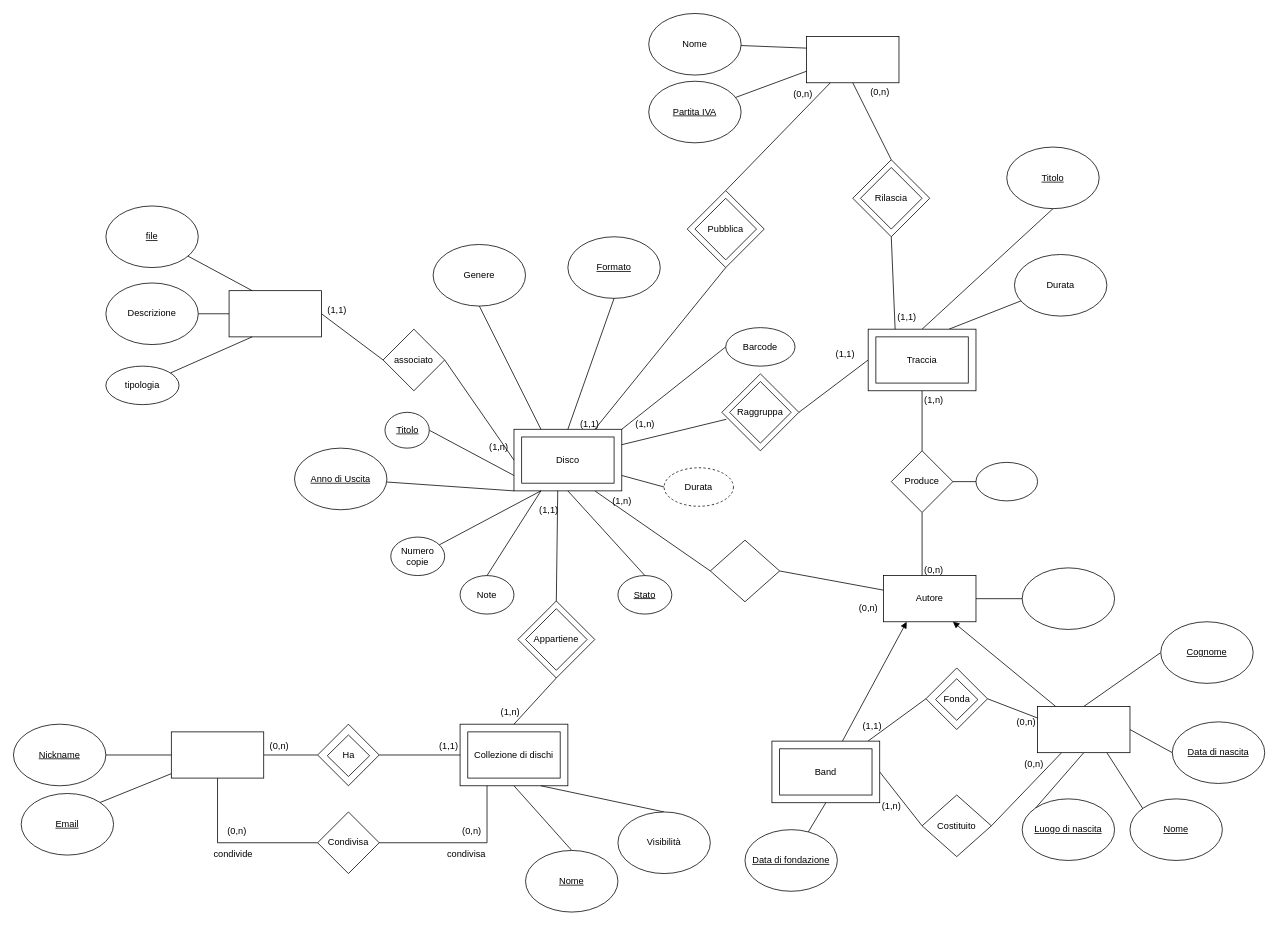
This 1278x926 diagram has some shape labels left out. Here are the shapes that lost their labels. From the top down, the box of each, then its label:
(806, 36, 899, 83): Etichetta
(228, 290, 321, 337): Immagine
(975, 462, 1038, 501): Ruolo
(710, 539, 780, 602): Incide
(1021, 567, 1115, 629): Nome d'arte
(1037, 706, 1130, 753): Artista singolo
(171, 731, 264, 778): Collezionista
